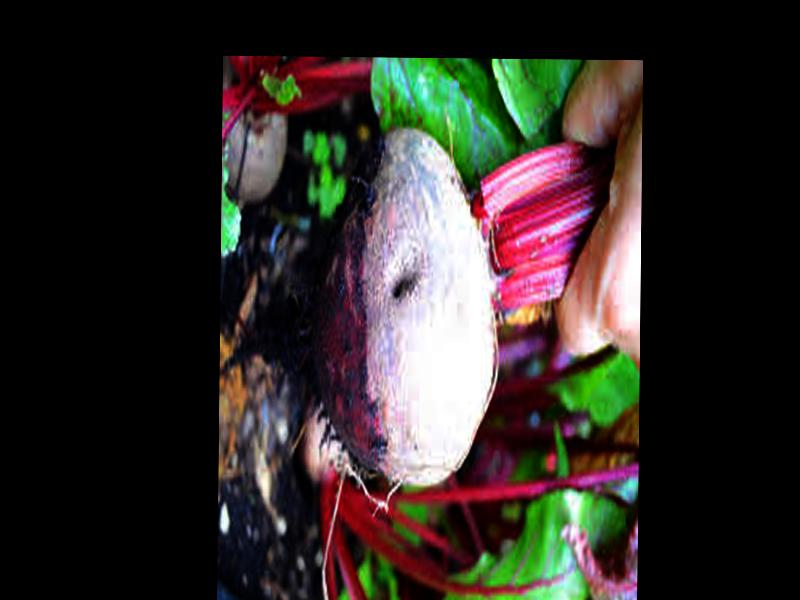Beet: (217, 126, 614, 491)
